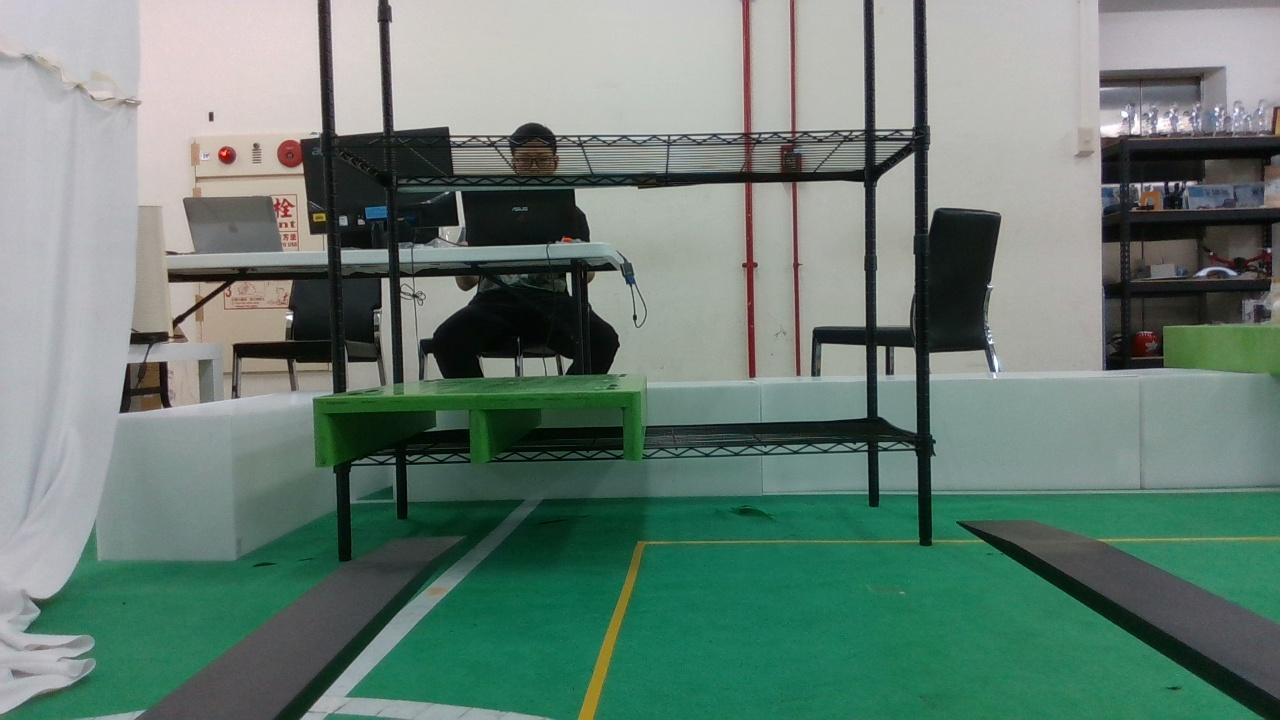Pallet: (313, 388, 643, 467)
